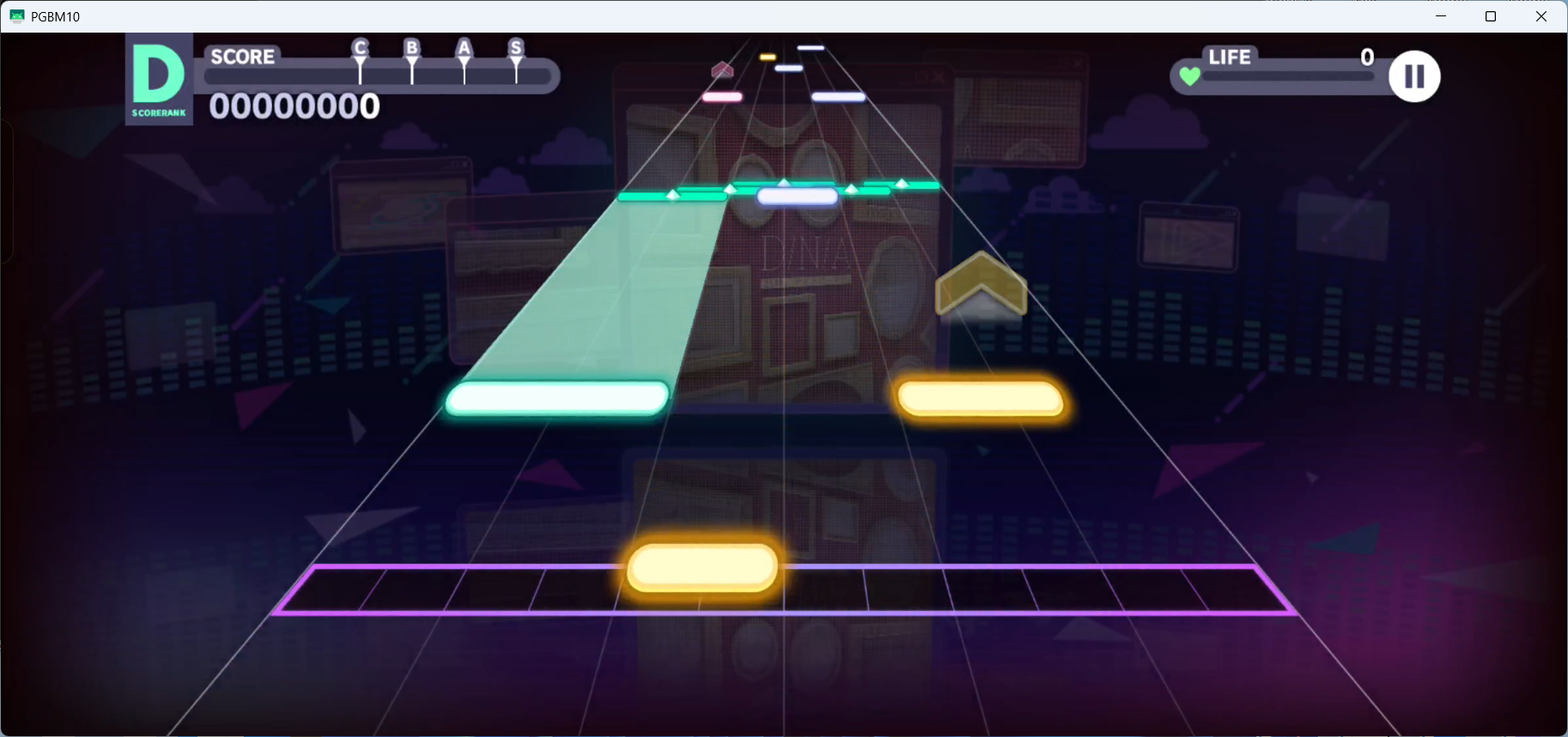flick: (936, 248, 1029, 331), (711, 61, 733, 79)
hold: (463, 201, 731, 381)
sweep: (618, 189, 727, 200), (732, 178, 834, 188), (864, 178, 939, 190), (676, 184, 757, 195), (834, 183, 890, 195)
tap: (443, 382, 669, 420), (627, 544, 778, 595), (897, 381, 1066, 419), (757, 188, 839, 204), (812, 93, 865, 101), (702, 92, 742, 102), (775, 64, 803, 71), (796, 45, 824, 51), (760, 53, 775, 61)
